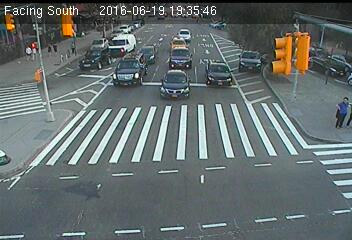neg: (29, 101, 57, 138), (119, 143, 146, 178), (208, 45, 228, 71), (163, 51, 182, 76), (261, 44, 279, 68), (302, 41, 317, 61), (326, 44, 341, 63)
pos: (327, 90, 351, 129), (19, 39, 35, 61), (48, 39, 61, 56), (66, 38, 78, 55), (43, 40, 53, 53)
